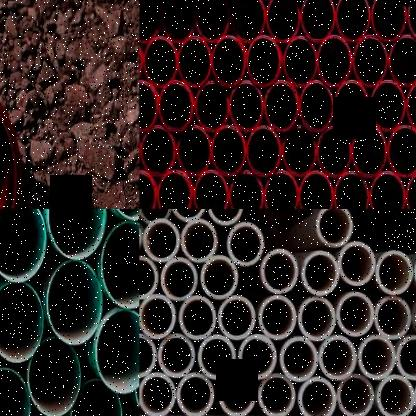pipe: (47, 260, 103, 345), (28, 336, 81, 416), (96, 309, 140, 394), (0, 282, 44, 362), (0, 209, 47, 283), (102, 221, 140, 308), (47, 209, 107, 258), (70, 379, 123, 416), (210, 124, 246, 177), (351, 125, 387, 178), (352, 35, 388, 87), (370, 80, 406, 132), (246, 125, 282, 177), (316, 125, 352, 177), (264, 81, 300, 132), (176, 125, 212, 176), (246, 35, 281, 87), (229, 80, 264, 132), (299, 80, 334, 132), (281, 125, 316, 177), (141, 125, 176, 177), (200, 254, 239, 300), (238, 334, 277, 380), (197, 334, 236, 380), (279, 336, 318, 382), (317, 36, 352, 87), (334, 81, 369, 132), (283, 36, 317, 88), (158, 80, 192, 132), (211, 36, 246, 86), (260, 248, 298, 294), (301, 250, 339, 296), (358, 334, 396, 380), (319, 334, 357, 380), (195, 81, 229, 132), (336, 292, 374, 337), (258, 295, 296, 340), (218, 295, 256, 340), (298, 296, 336, 341), (158, 333, 196, 378), (144, 36, 178, 86), (142, 218, 180, 262), (180, 218, 218, 262), (338, 242, 376, 286), (178, 296, 216, 340), (176, 372, 214, 416), (218, 372, 256, 416), (376, 250, 413, 295), (178, 36, 210, 88), (140, 293, 176, 339), (160, 257, 198, 300), (257, 373, 295, 416), (228, 222, 264, 267), (140, 372, 176, 416), (298, 376, 337, 416), (378, 374, 415, 416), (338, 373, 374, 416), (375, 296, 410, 340), (371, 0, 407, 42), (387, 125, 416, 177), (195, 0, 230, 43), (335, 0, 370, 42), (300, 0, 335, 42), (0, 367, 30, 416), (266, 0, 300, 43), (232, 0, 266, 43), (388, 35, 416, 87), (316, 209, 354, 247), (156, 169, 192, 209), (162, 0, 195, 43), (228, 170, 264, 209), (333, 170, 369, 209), (370, 170, 406, 209), (193, 169, 228, 209), (298, 170, 333, 209), (263, 171, 298, 209), (139, 80, 158, 132), (139, 0, 161, 43), (396, 335, 416, 380), (139, 255, 158, 299), (139, 333, 157, 378), (139, 170, 157, 209), (207, 209, 244, 225), (406, 80, 416, 132), (139, 209, 172, 224), (404, 170, 416, 209), (171, 209, 207, 222), (407, 0, 416, 41)
